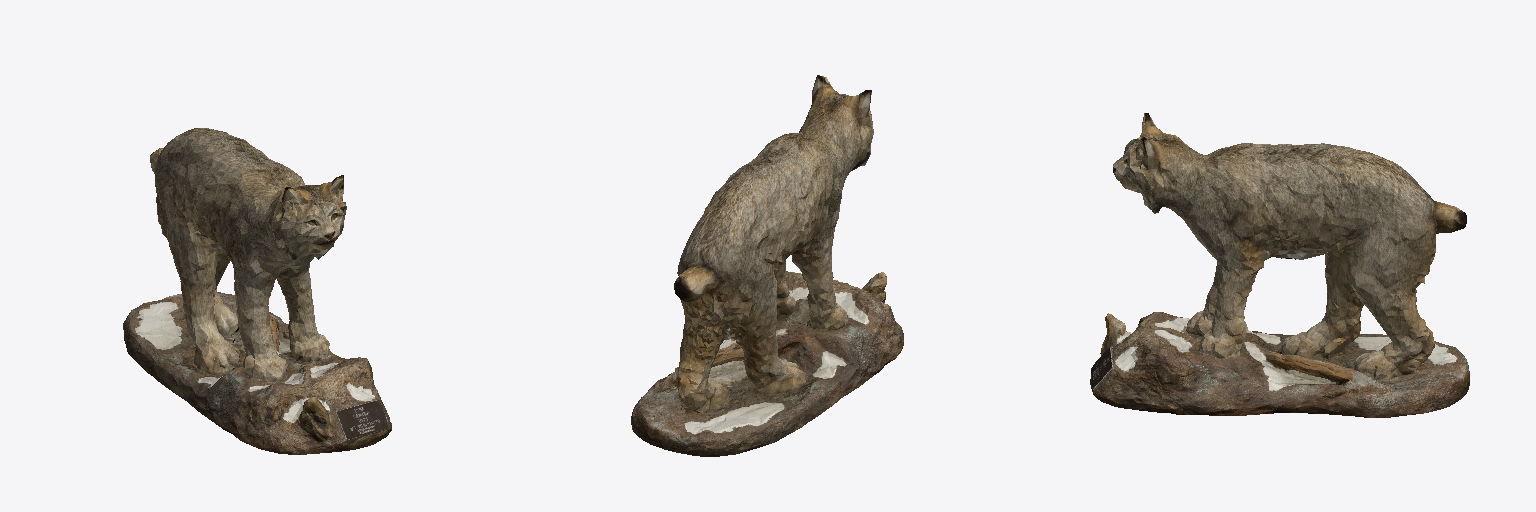
3 views of the same model, side by side, from view 1: azimuth 30°, elevation 25°; view 2: azimuth 150°, elevation 25°; view 3: azimuth 270°, elevation 25° (orthographic).
Bounding box in the file's own units: 0.4194 × 0.6854 × 0.932.
1 materials, 1 textured.